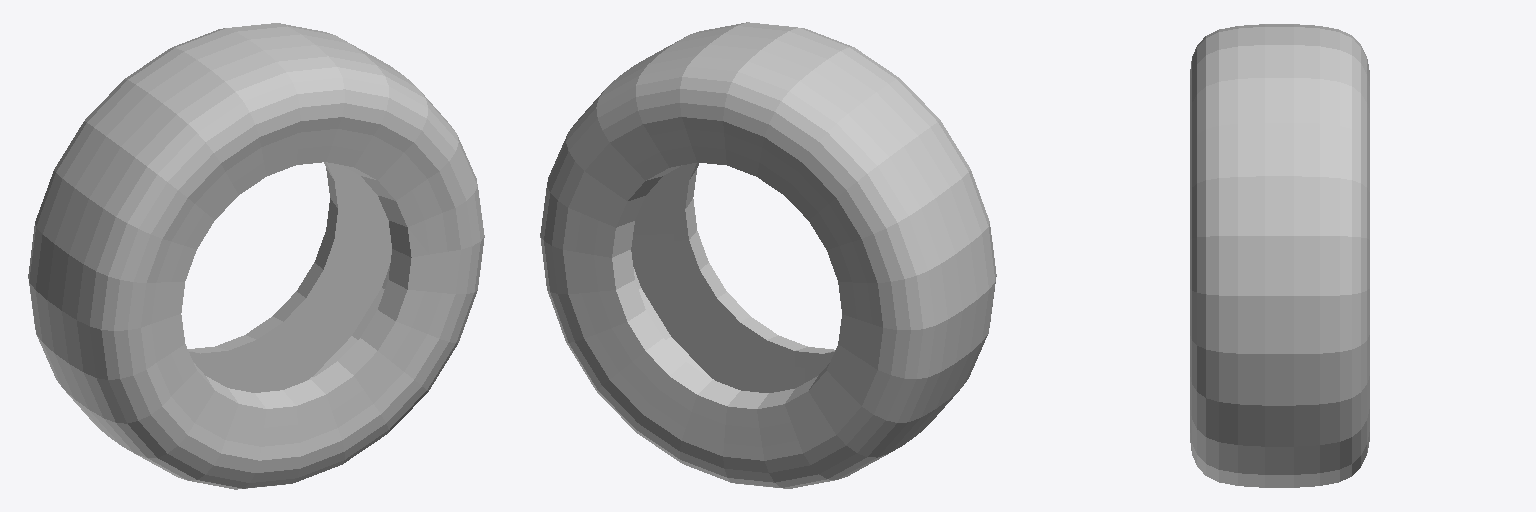
The model's file is RubberWheel.obj.
3 views of the same model, side by side, from view 1: azimuth 30°, elevation 25°; view 2: azimuth 150°, elevation 25°; view 3: azimuth 270°, elevation 25° (orthographic).
Parts seen in each view (by area): view 1: polySurface301; view 2: polySurface301; view 3: polySurface301.
Part boxes in pixels (x1,y1,x2,y2): polySurface301: (28, 23, 484, 489); polySurface301: (540, 22, 996, 488); polySurface301: (1190, 24, 1369, 487).
Bounding box in the file's own units: 4.08 × 4.08 × 1.58.